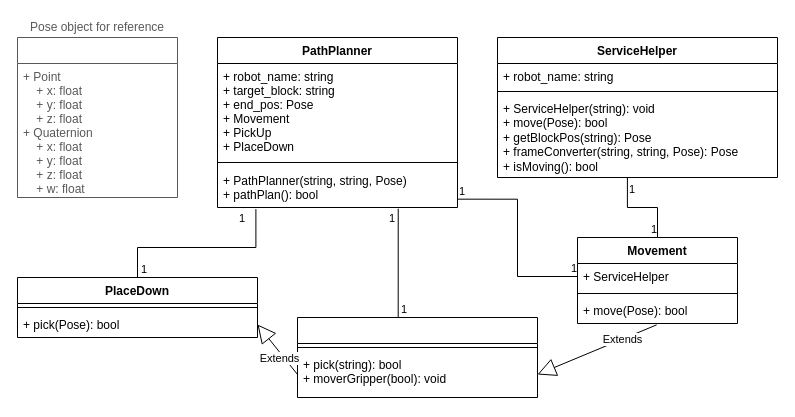
This 795x417 diagram has some shape labels left out. The box of each missing label's shape, as (x1, y1, x2, y2) in pixels:
PickUp: (296, 316, 538, 398)
Pose (geometry_msg): (16, 36, 178, 198)
